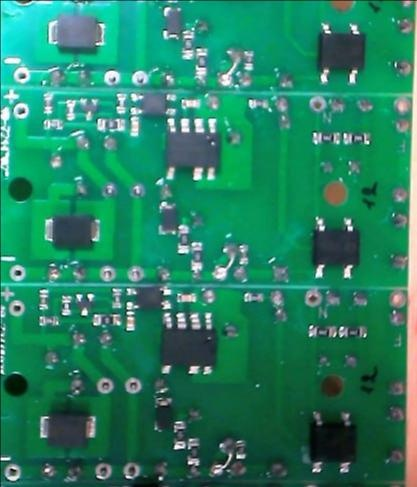chip-capacitor: (175, 291, 197, 304), (129, 115, 141, 138), (179, 97, 200, 110), (126, 311, 136, 332)
chip-resistor: (94, 116, 126, 132), (310, 129, 341, 145), (171, 419, 187, 450), (342, 130, 372, 146), (91, 311, 121, 327), (307, 323, 337, 339), (338, 324, 368, 340), (186, 436, 201, 467), (176, 223, 190, 255), (194, 46, 209, 75), (189, 241, 203, 271), (181, 29, 194, 60), (41, 91, 54, 115), (60, 292, 72, 317), (242, 48, 255, 71), (114, 91, 127, 114), (246, 97, 269, 110), (37, 313, 60, 326), (109, 286, 122, 309), (37, 287, 49, 310), (242, 291, 265, 303), (235, 438, 247, 461), (41, 118, 62, 131), (65, 98, 76, 121), (238, 243, 249, 265)
diode: (45, 13, 106, 50), (38, 410, 97, 448), (43, 213, 101, 250), (160, 4, 183, 40), (157, 200, 178, 236), (151, 396, 172, 432)
ic: (158, 308, 218, 377), (164, 116, 222, 183), (315, 20, 367, 87), (310, 215, 361, 281), (308, 410, 357, 475), (128, 91, 177, 117), (124, 285, 172, 311)
transistor: (73, 291, 95, 317), (77, 94, 98, 121)
